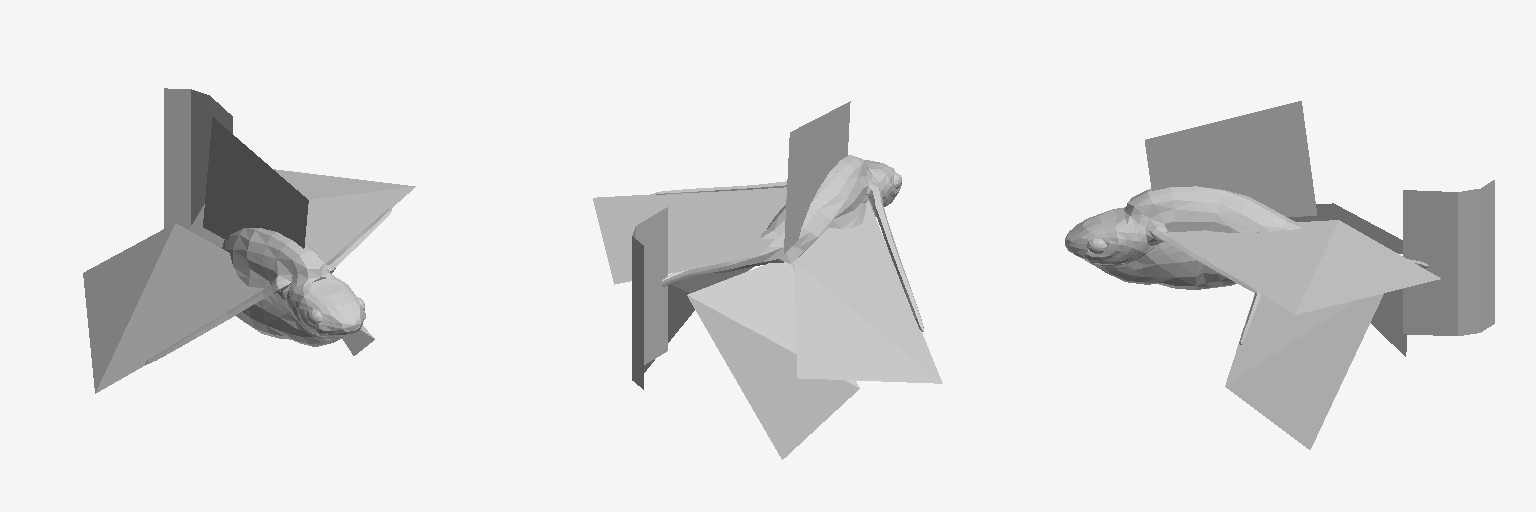
Rendered from fish_000030.obj.
3 renders of one model, left to right at view 1: azimuth 30°, elevation 25°; view 2: azimuth 150°, elevation 25°; view 3: azimuth 270°, elevation 25°, orthographic.
Parts seen in each view (by area): view 1: flyingFish_low_StingrayPBS1_0; view 2: flyingFish_low_StingrayPBS1_0; view 3: flyingFish_low_StingrayPBS1_0.
Part boxes in pixels (x1,y1,x2,y2): flyingFish_low_StingrayPBS1_0: (83, 88, 415, 393); flyingFish_low_StingrayPBS1_0: (593, 101, 942, 459); flyingFish_low_StingrayPBS1_0: (1065, 101, 1494, 449).
Size of the model in its own units: 17.35 by 13.77 by 19.27.